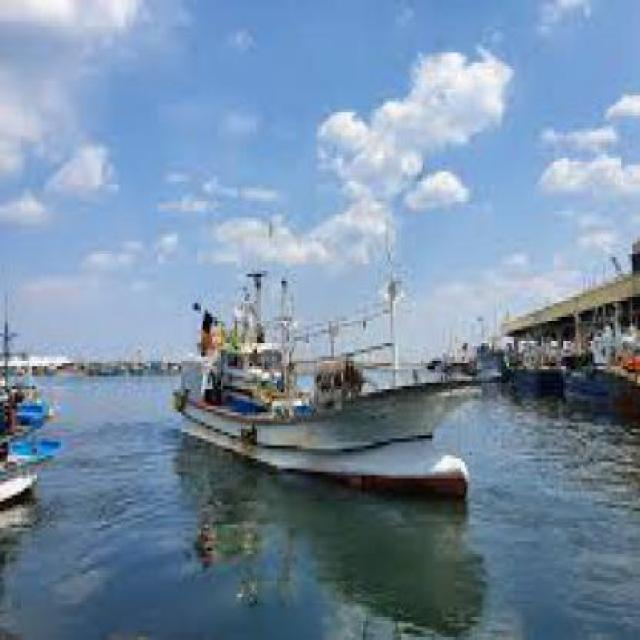fish-b: (159, 228, 503, 509)
